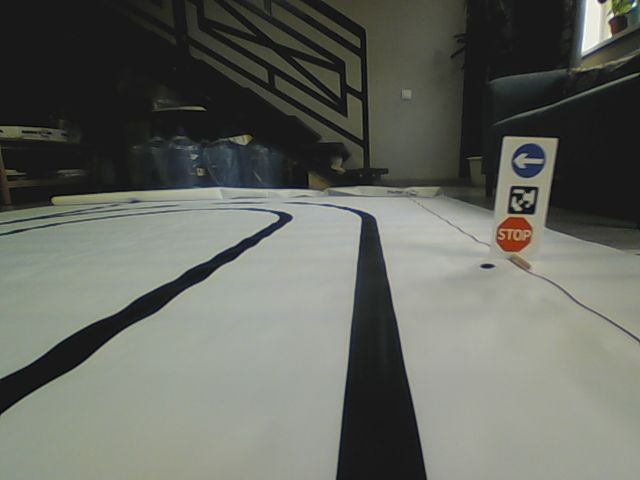Stop: (495, 216, 535, 252)
